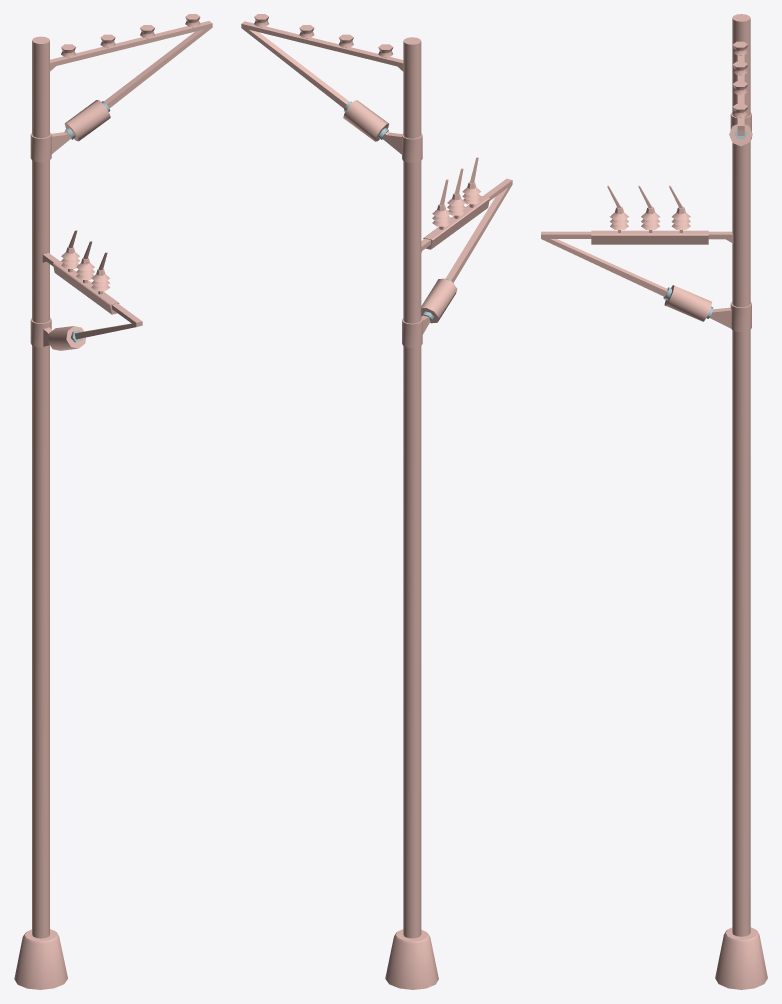
Rendered from utilitypole02a.fbx.
The picture shows the model from 3 angles, left to right: view 1: azimuth 30°, elevation 25°; view 2: azimuth 150°, elevation 25°; view 3: azimuth 270°, elevation 25°; orthographic projection. The views are drawn at different scales.
Visible parts, largest first — view 1: utilitypole02a_reference; view 2: utilitypole02a_reference; view 3: utilitypole02a_reference.
Boxes of the visible parts, x1,y1,x2,y2 form: utilitypole02a_reference: [14, 14, 212, 989]; utilitypole02a_reference: [241, 14, 512, 989]; utilitypole02a_reference: [541, 14, 767, 989].
Size of the model in its own units: 9961 by 46279 by 9911.
